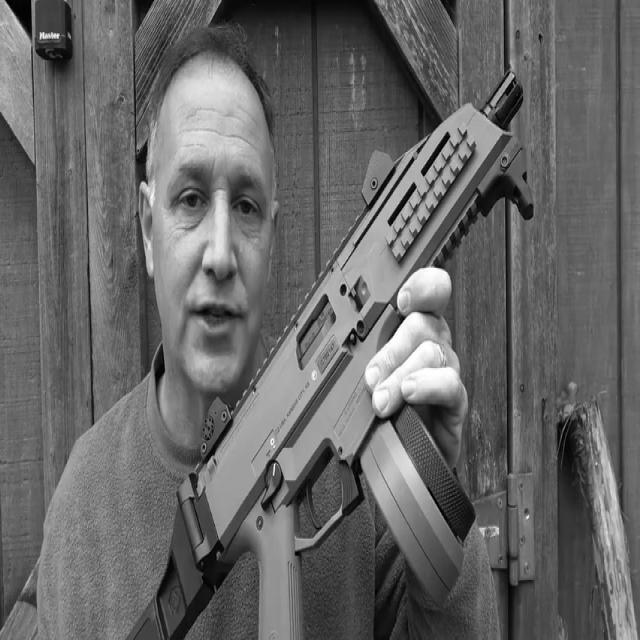Sub-machine-gun: (78, 0, 531, 640)
